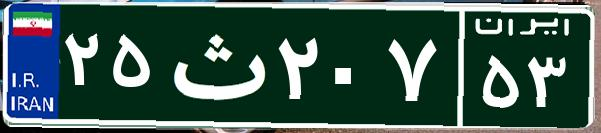0: (330, 28, 385, 110)
2: (273, 28, 330, 110), (57, 26, 110, 107)
3: (525, 38, 570, 115)
5: (475, 38, 525, 113), (110, 28, 158, 105)
7: (385, 28, 445, 110)
ث: (158, 15, 273, 115)
